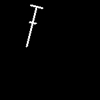double_crochet: (26, 5, 42, 46)
